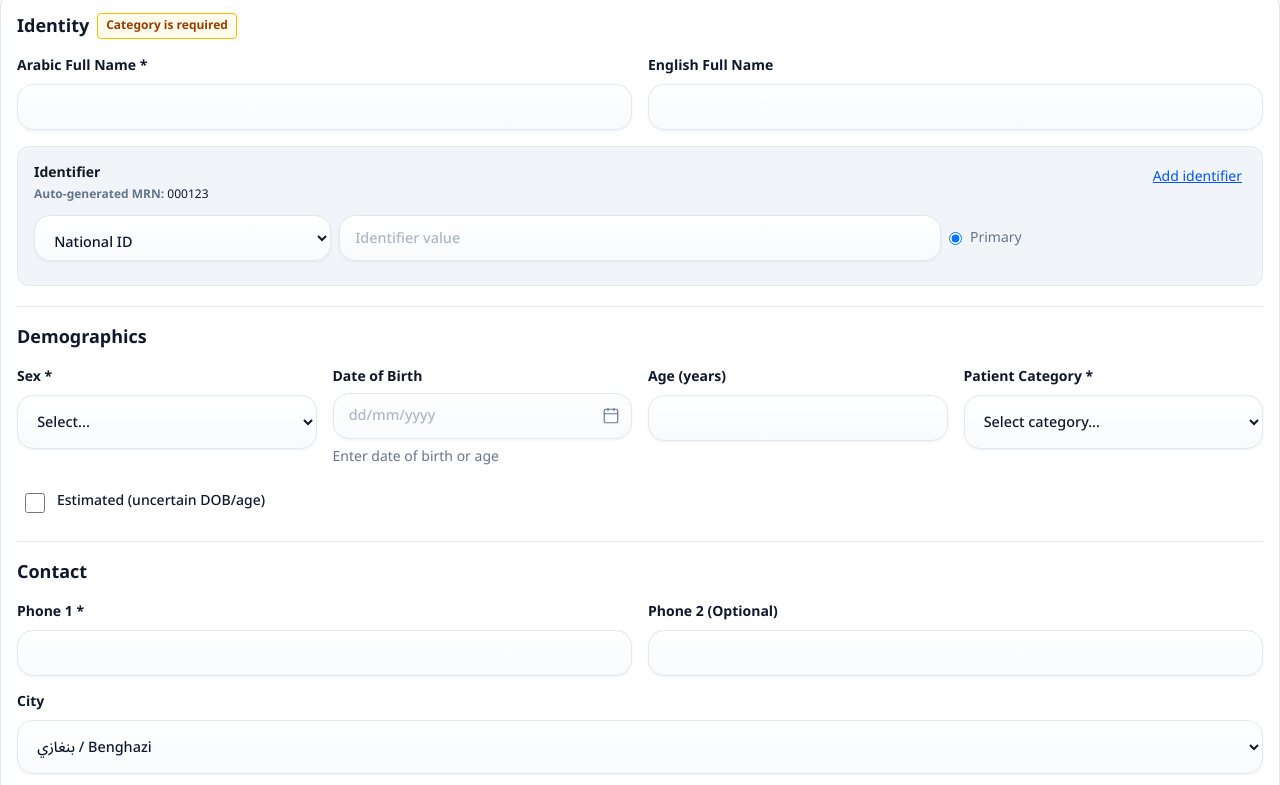
Scenario: PatientForm workflow hardening › blocks submit for missing sex, then missing DOB/age
Type "مريض جديد ثالث" into the field named "Arabic Full Name" at point(324, 107), box 17,84 -> 632,130
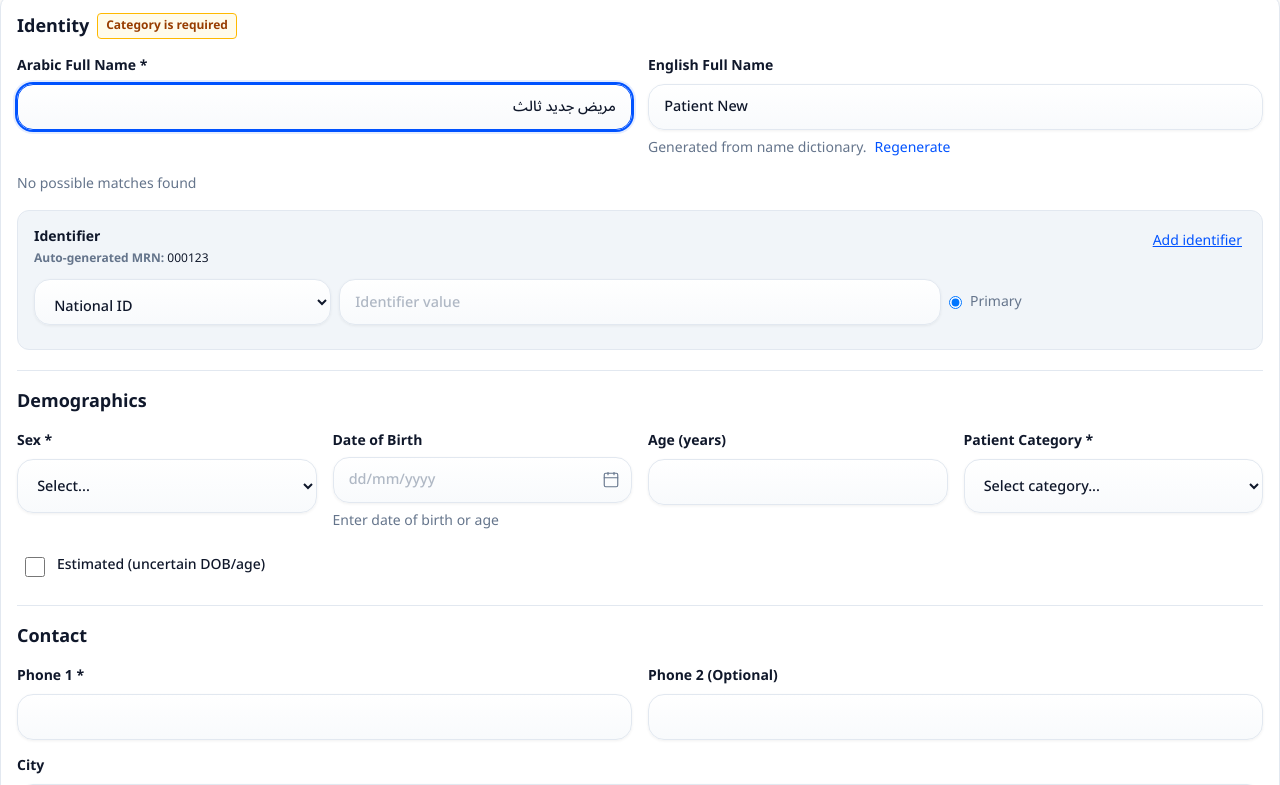
Type "0912345678" into the field named "Phone 1" at point(324, 717), box 17,694 -> 632,740
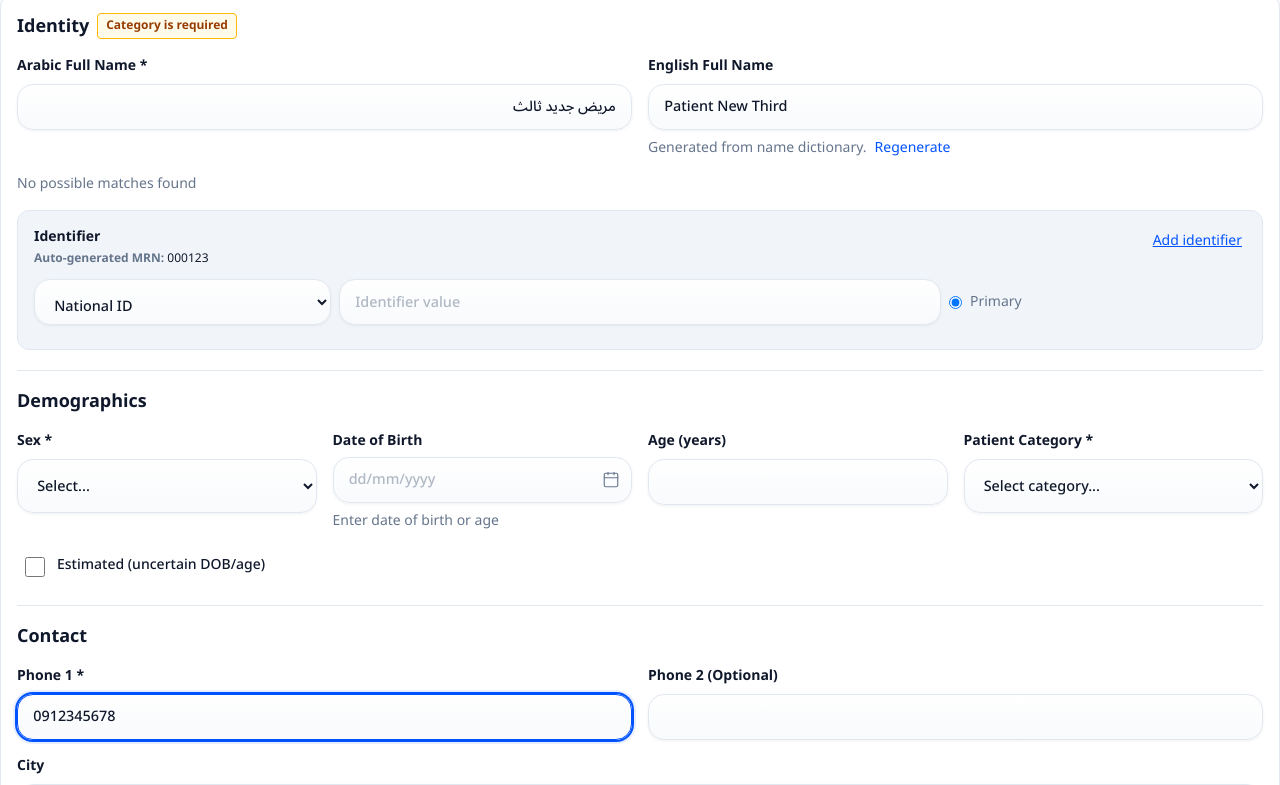
Select "Oncology" in the dropdown named "Patient Category" at point(1113, 486), box 964,459 -> 1263,513
(page scrolled)
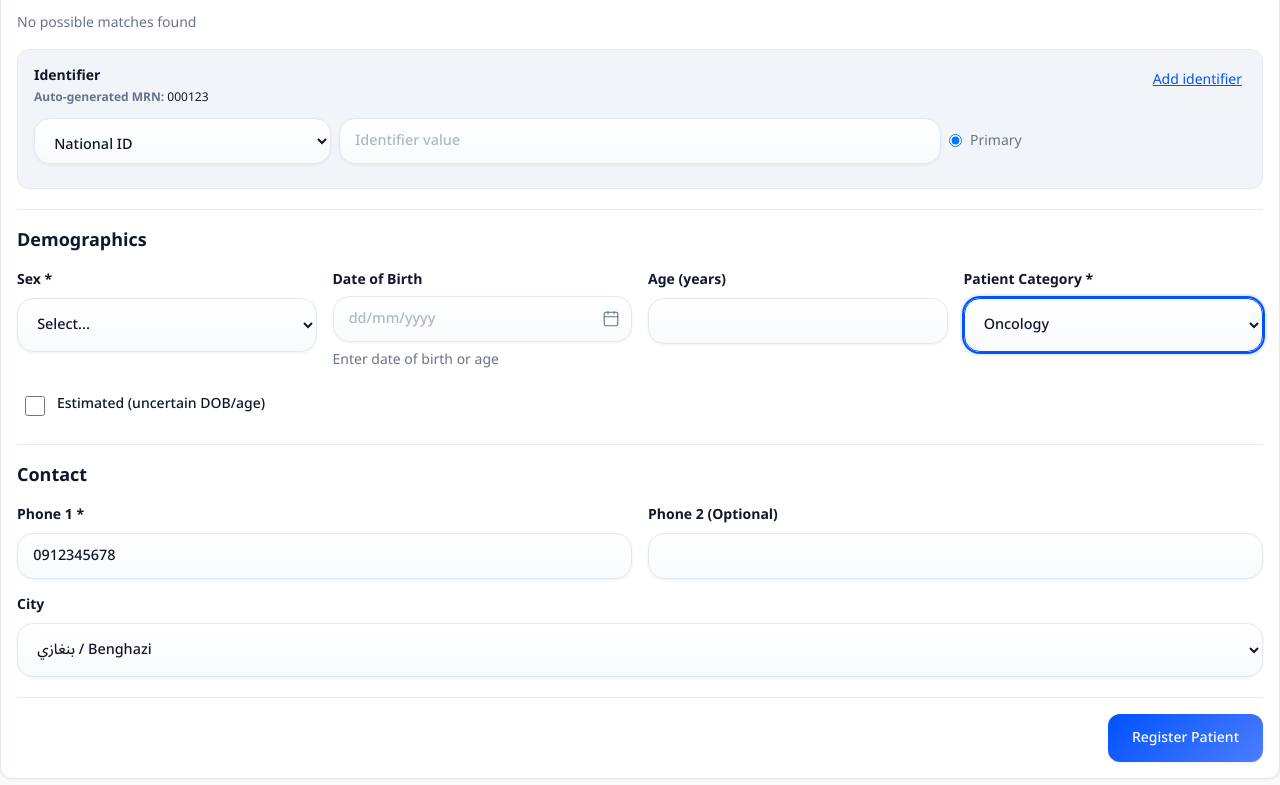
Click the button "Register Patient" at point(1185, 738), box 1108,714 -> 1263,762
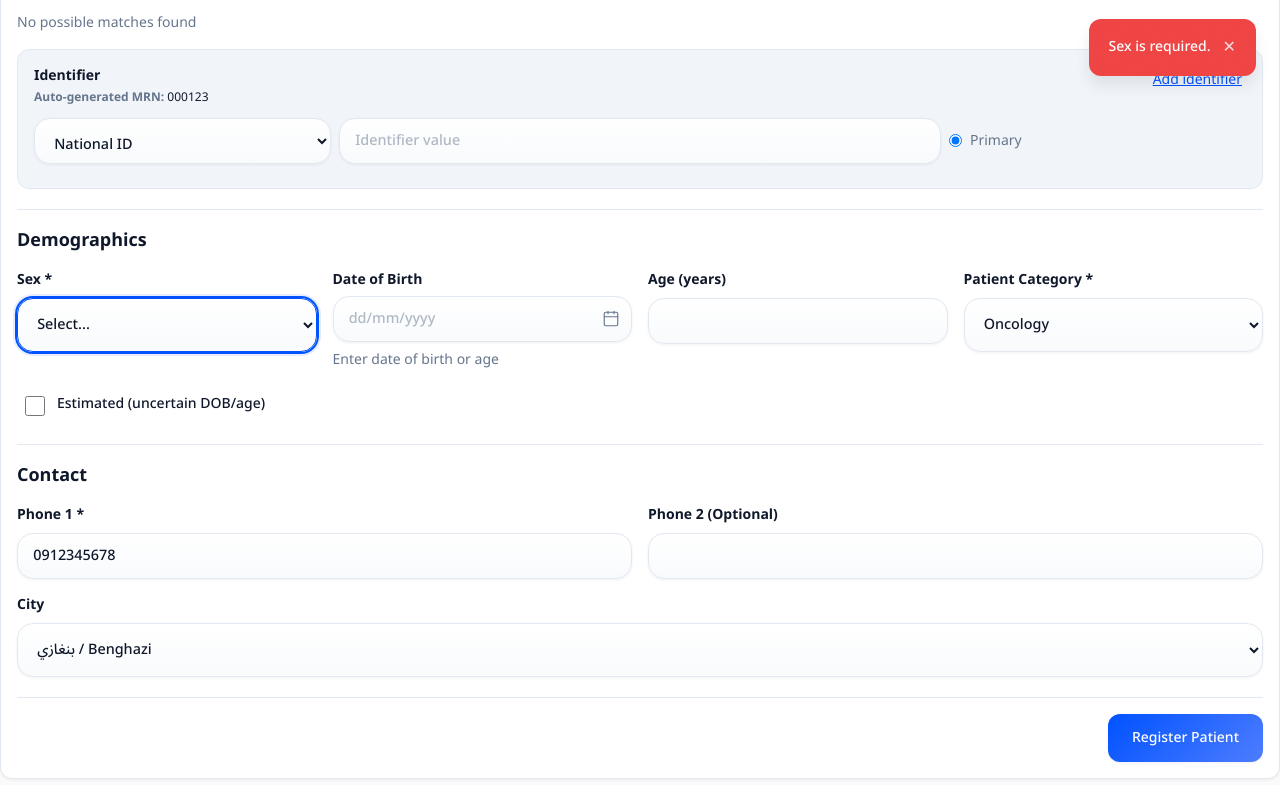
Expected: the text "Sex is required." is shown, 1108,37 -> 1211,57
Select "Male" in the dropdown named "Sex" at point(167, 325), box 17,298 -> 316,352
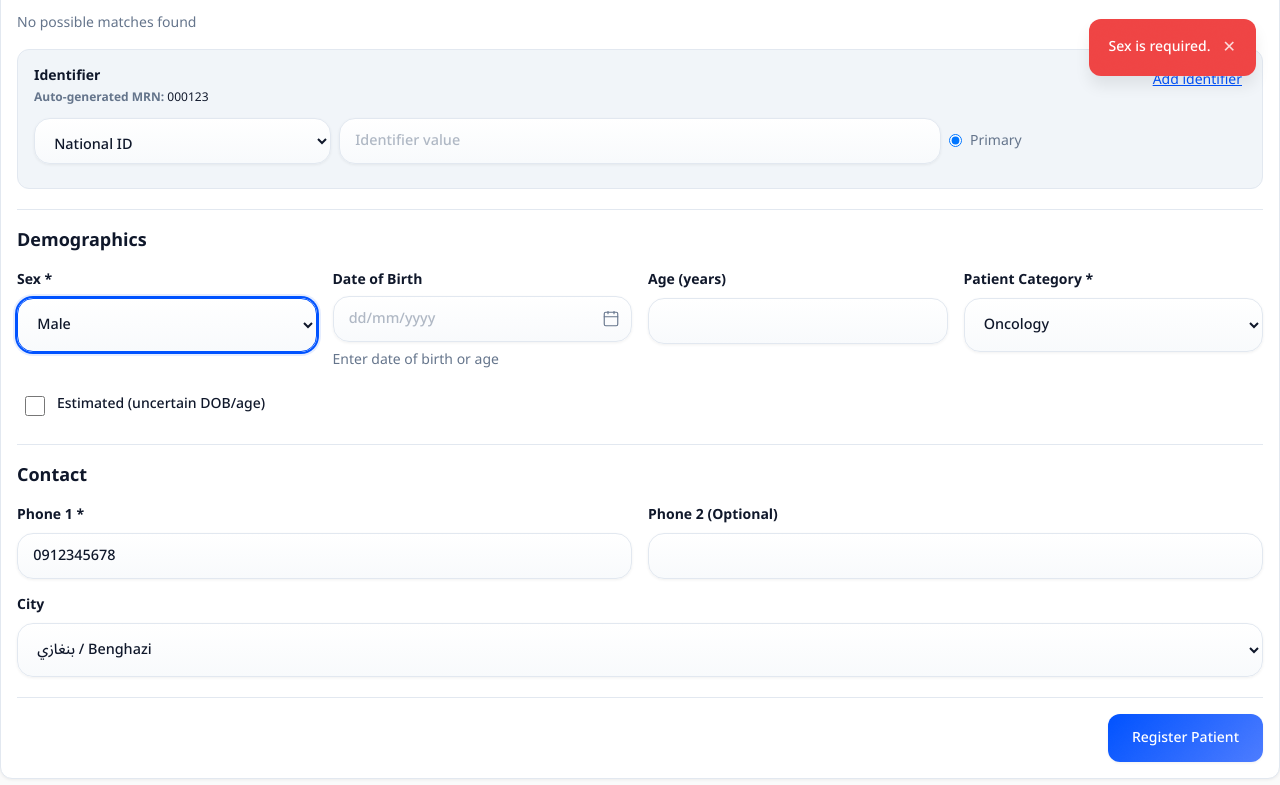
Click the button "Register Patient" at point(1185, 738), box 1108,714 -> 1263,762
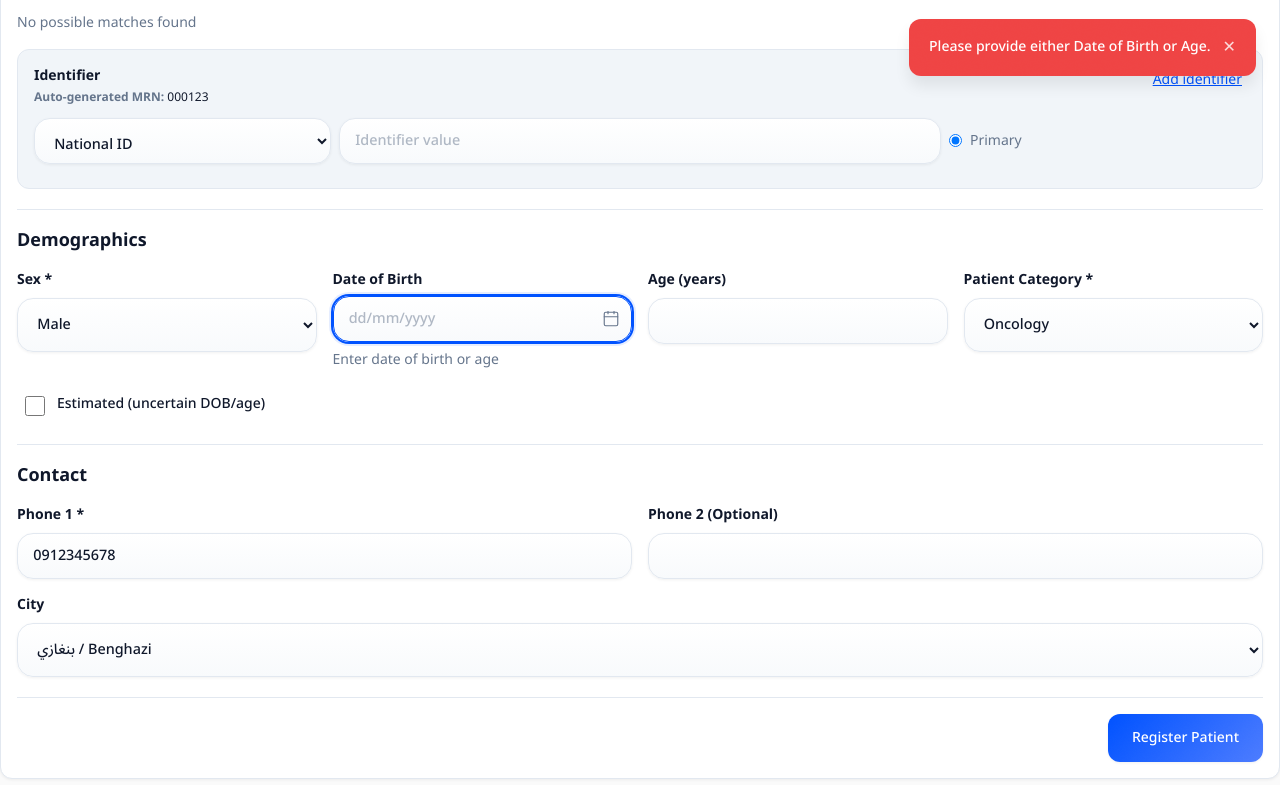
Expected: the text "Please provide either Date of Birth or Age." is shown, 929,37 -> 1211,57
